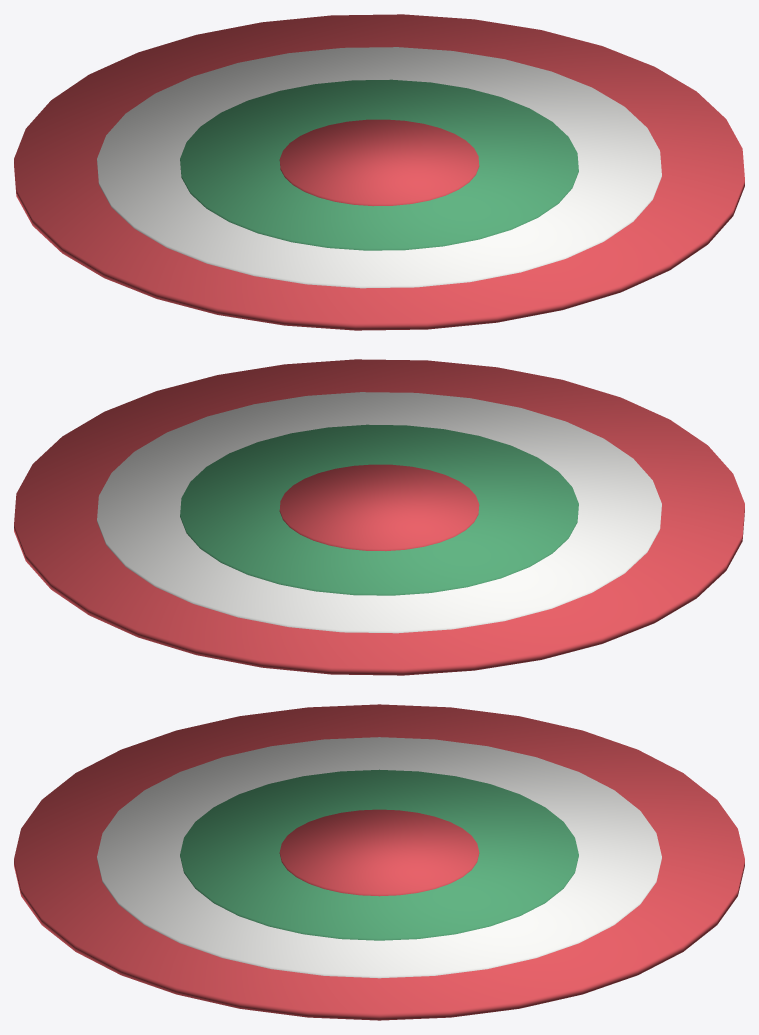
File: RoundRug.fbx
The picture shows the model from 3 angles, top to bottom: view 1: azimuth 30°, elevation 25°; view 2: azimuth 150°, elevation 25°; view 3: azimuth 270°, elevation 25°; orthographic projection.
Parts seen in each view (by area): view 1: RoundRug; view 2: RoundRug; view 3: RoundRug.
Part boxes in pixels (x1,y1,x2,y2): RoundRug: (14,14,744,330); RoundRug: (14,359,744,675); RoundRug: (14,704,744,1020).
Bounding box in the file's own units: 220 × 4.8 × 220.
